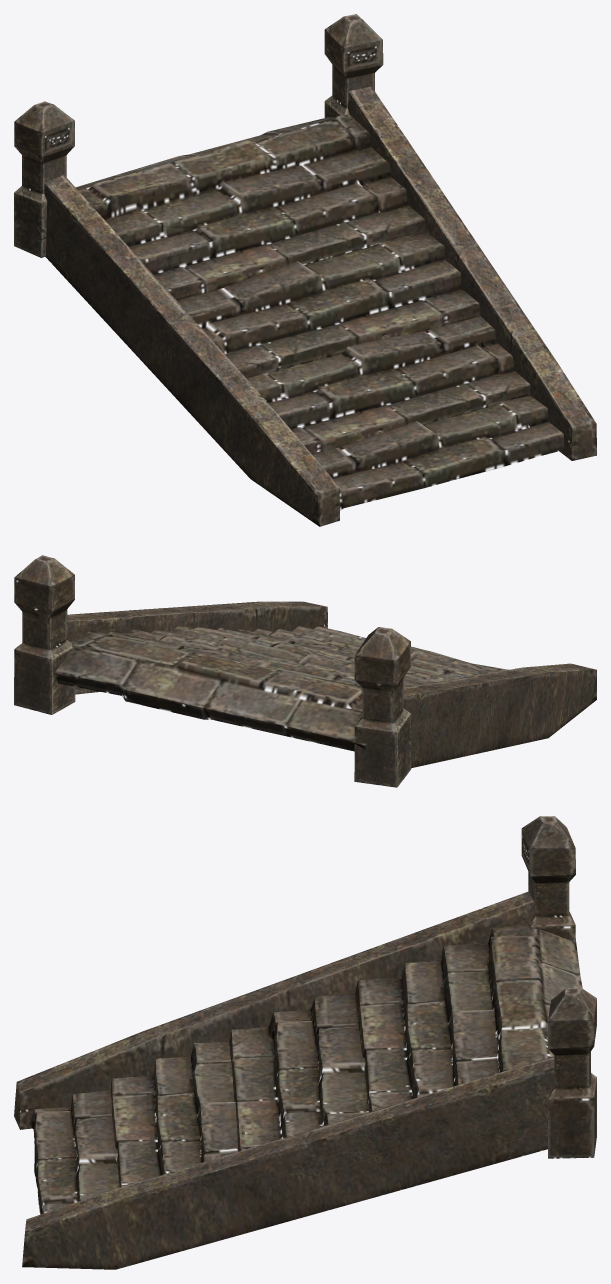
Rendered from miniboss_06.glb.
The picture shows the model from 3 angles, top to bottom: view 1: azimuth 30°, elevation 25°; view 2: azimuth 150°, elevation 25°; view 3: azimuth 270°, elevation 25°; orthographic projection. The views are drawn at different scales.
Visible parts, largest first — view 1: miniboss_06; view 2: miniboss_06; view 3: miniboss_06.
Part boxes in pixels (left/top/right/bottom): miniboss_06: left=14, top=14, right=596, bottom=526; miniboss_06: left=14, top=555, right=596, bottom=787; miniboss_06: left=14, top=816, right=596, bottom=1269.
Bounding box in the file's own units: 26.87 × 18.11 × 33.92.
Materials: 1 (1 with a texture image).
